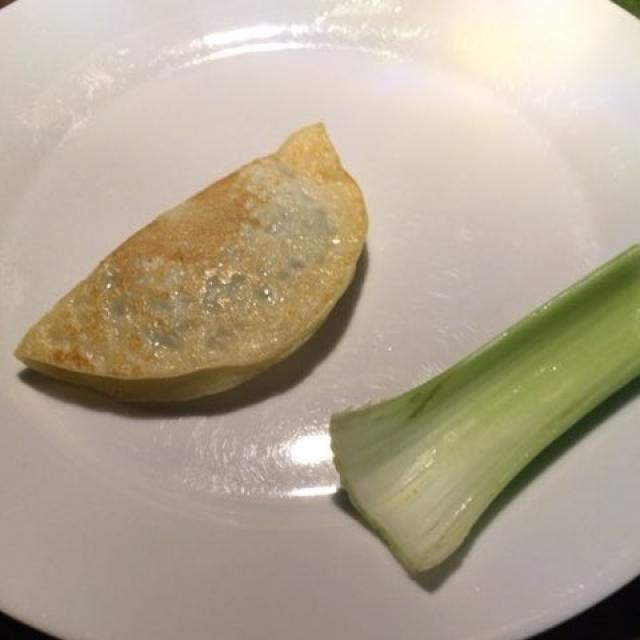celery: (317, 254, 630, 586)
